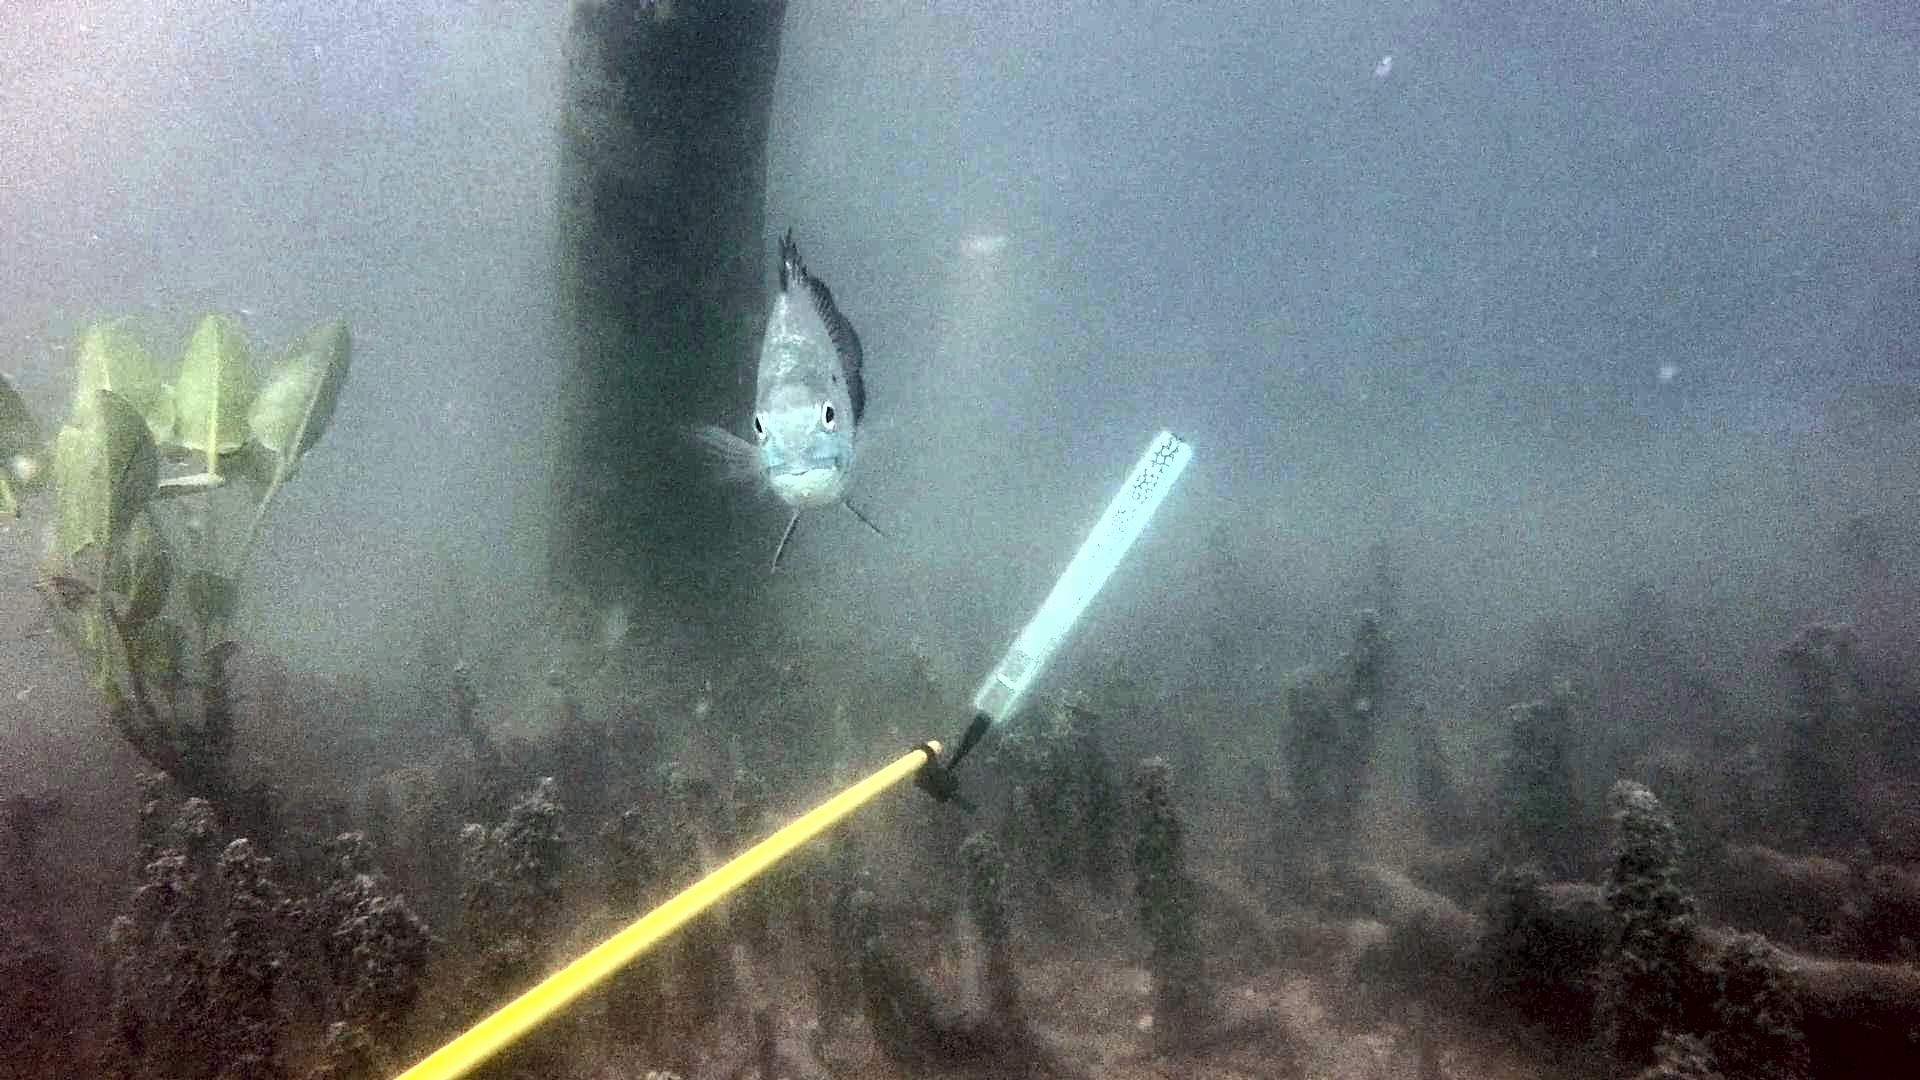acanthopagrus palmaris: (695, 223, 926, 567)
